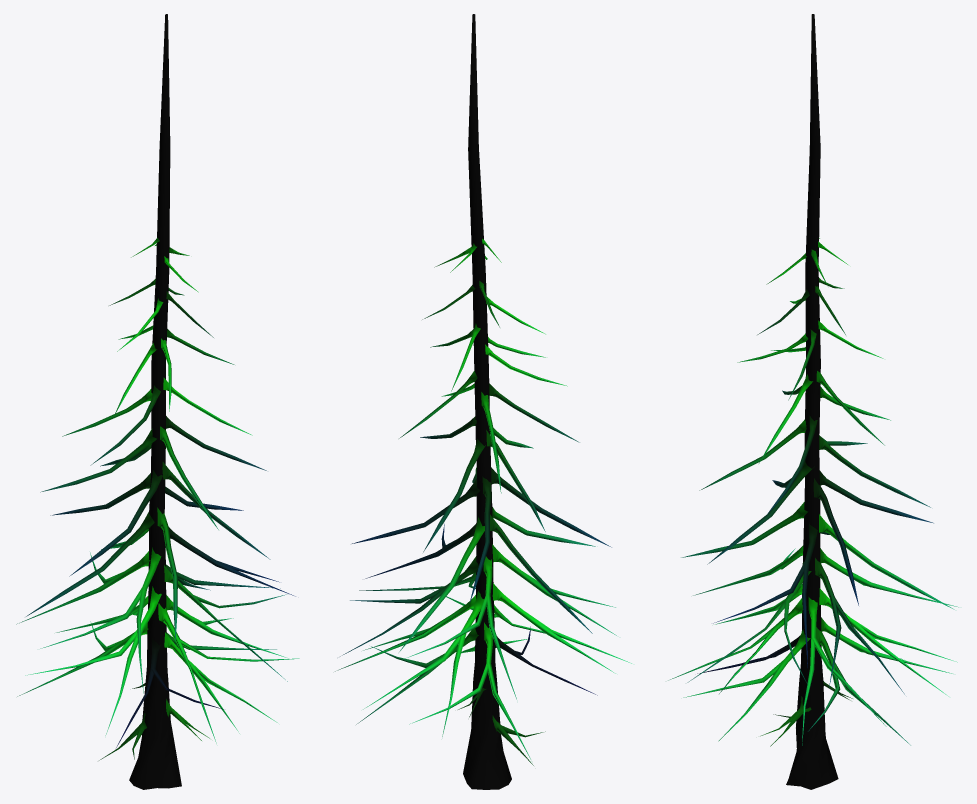
Rendered from SpruceTrunk.fbx.
The picture shows the model from 3 angles, left to right: view 1: azimuth 30°, elevation 25°; view 2: azimuth 150°, elevation 25°; view 3: azimuth 270°, elevation 25°; orthographic projection.
Parts seen in each view (by area): view 1: tree; view 2: tree; view 3: tree.
Part boxes in pixels (box(x1,y1,x2,y2)): tree: box(16, 14, 299, 789); tree: box(335, 14, 631, 789); tree: box(668, 14, 958, 789).
Bounding box in the file's own units: 2553 × 6995 × 2456.
